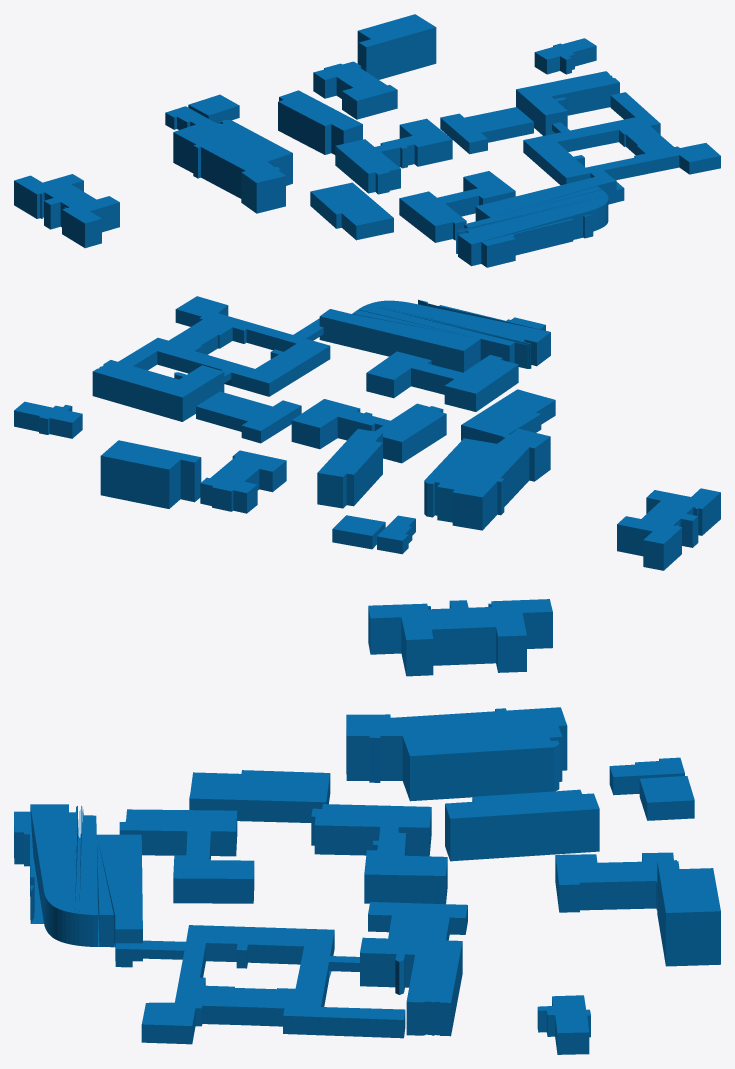
Rendered from CLADIRI 3D_v2.fbx.
The picture shows the model from 3 angles, top to bottom: view 1: azimuth 30°, elevation 25°; view 2: azimuth 150°, elevation 25°; view 3: azimuth 270°, elevation 25°; orthographic projection. The views are drawn at different scales.
Parts seen in each view (by area): view 1: Curve.009, Curve.018, Curve.013, Curve.001, Curve.008, Curve.017, Curve.011, Curve.004, Curve.012, Curve, Curve.014, Curve.007 (+3 smaller); view 2: Curve.009, Curve.018, Curve.013, Curve.001, Curve.017, Curve.008, Curve.011, Curve.004, Curve.012, Curve, Curve.007, Curve.014 (+3 smaller); view 3: Curve.018, Curve.013, Curve.009, Curve.008, Curve.001, Curve.012, Curve.011, Curve.004, Curve.014, Curve.017, Curve, Curve.007 (+3 smaller).
Part boxes in pixels (x1,y1,x2,y2): Curve.009: (456,174,616,267); Curve.018: (523,92,720,202); Curve.013: (173,120,292,213); Curve.001: (335,118,452,194); Curve.008: (14,174,119,248); Curve.017: (357,14,436,79); Curve.011: (399,171,515,242); Curve.004: (516,71,619,135); Curve.012: (278,90,362,154); Curve: (313,61,397,119); Curve.014: (310,182,393,240); Curve.007: (440,107,533,154); Curve.009: (319,299,550,372); Curve.018: (118,296,330,396); Curve.013: (424,428,550,530); Curve.001: (291,399,446,463); Curve.017: (100,440,201,508); Curve.008: (617,488,720,570); Curve.011: (366,351,518,411); Curve.004: (92,360,224,421); Curve.012: (317,429,382,508); Curve: (200,450,286,513); Curve.007: (196,391,301,443); Curve.014: (461,389,555,443); Curve.018: (115,925,405,1044); Curve.013: (346,707,567,801); Curve.009: (14,804,142,961); Curve.008: (368,599,552,676); Curve.001: (311,804,447,904); Curve.012: (445,789,599,861); Curve.011: (119,809,254,903); Curve.004: (360,937,462,1036); Curve.014: (189,770,330,822); Curve.017: (657,860,720,966); Curve: (555,852,679,912); Curve.007: (368,902,467,940).
Size of the model in its own units: 42305 by 2548 by 30129.
